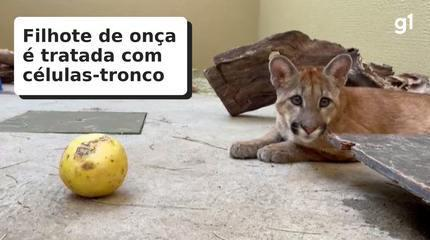OncaParda: (230, 54, 430, 171)
